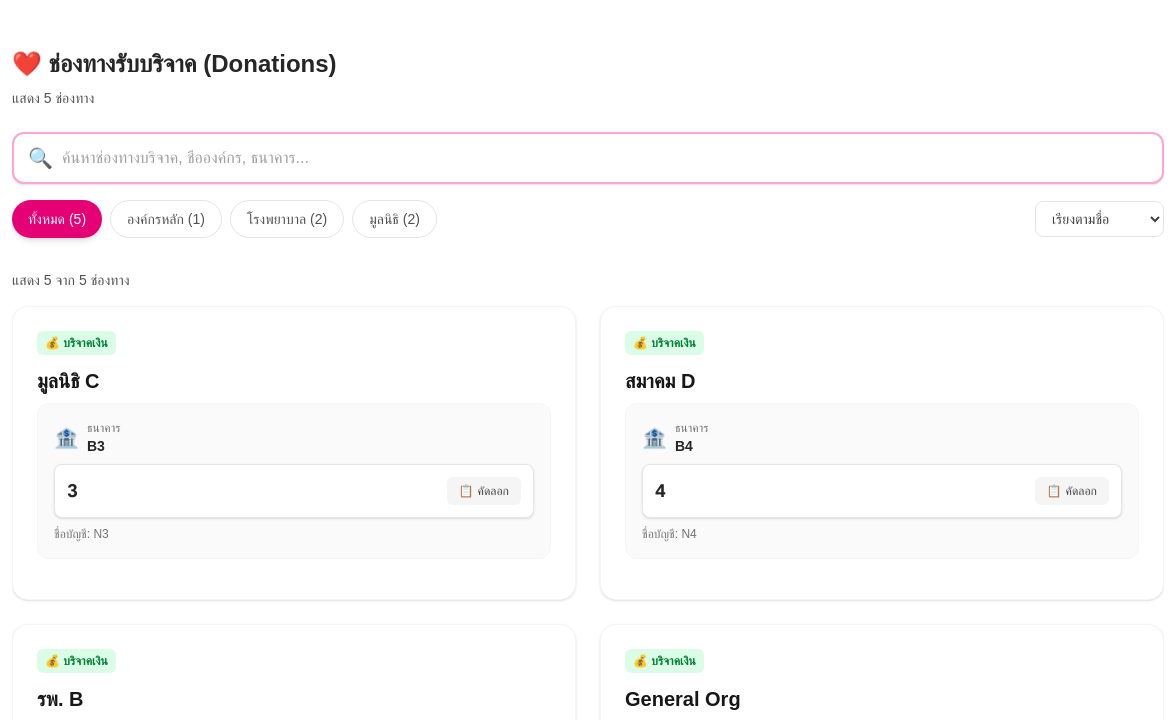
Test: DonationsSection › categorizes donations correctly
This screenshot has width=1176, height=720.
# Test "โรงพยาบาล" filter (should include "โรงพยาบาล" and "รพ.")
Click the button "โรงพยาบาล (2)" at (287,219), box [230,200,344,238]
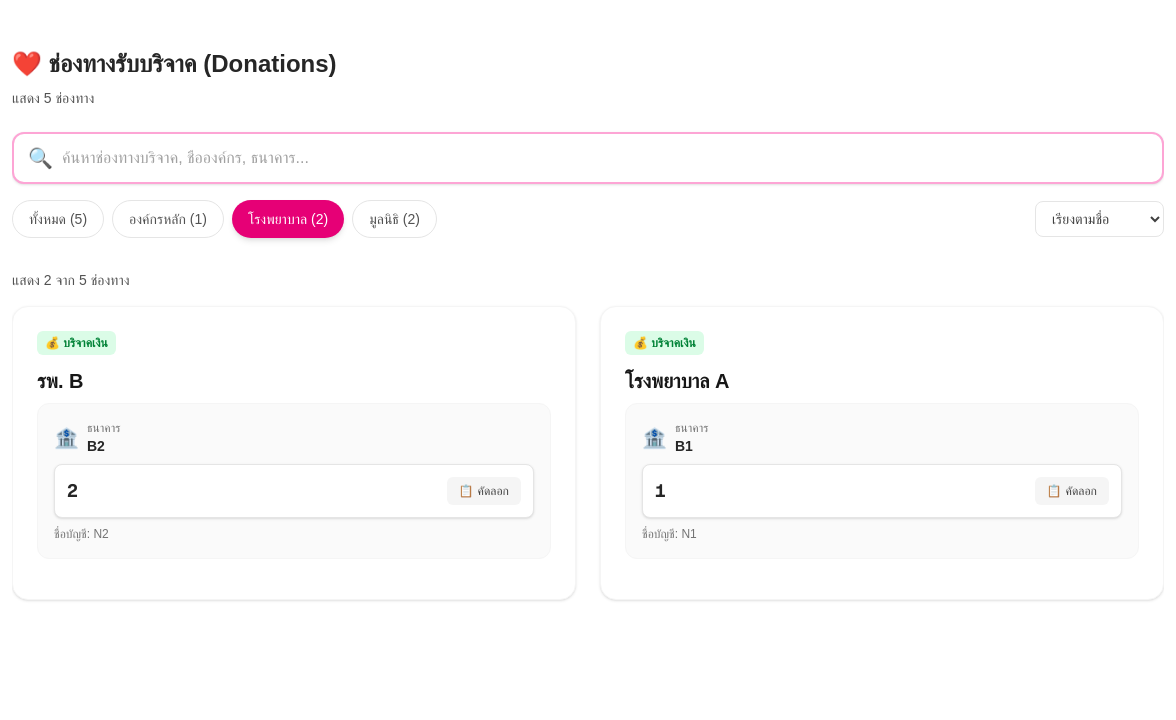
Expected: the heading "โรงพยาบาล A" is shown, [625,370,730,392]
Now the heading "มูลนิธิ C" is gone
# Test "มูลนิธิ" filter (should include "มูลนิธิ" and "สมาคม")
Click the button "มูลนิธิ (2)" at (395,219), box [352,200,437,238]
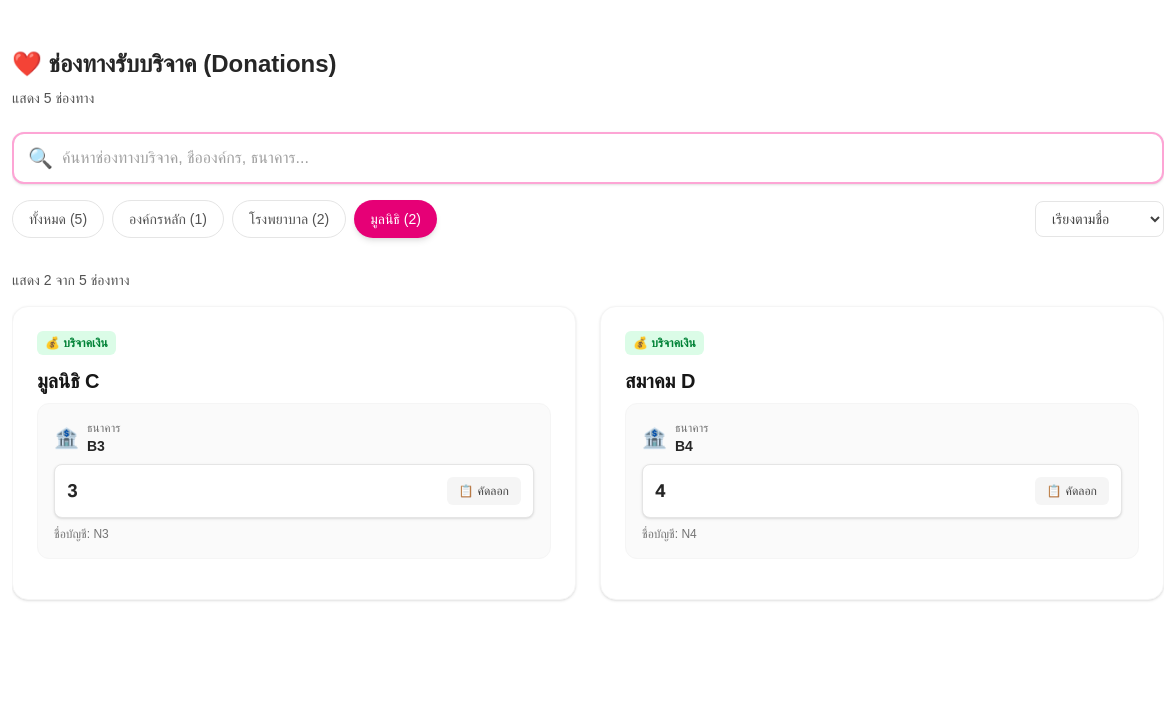
Expected: the heading "General Org" is not shown
Now the heading "มูลนิธิ C" is shown, box [37,370,100,392]
Now the heading "สมาคม D" is shown, box [625,370,695,392]
# Test "องค์กรหลัก" filter (Default category)
Click the button "องค์กรหลัก (1)" at (168,219), box [112,200,224,238]
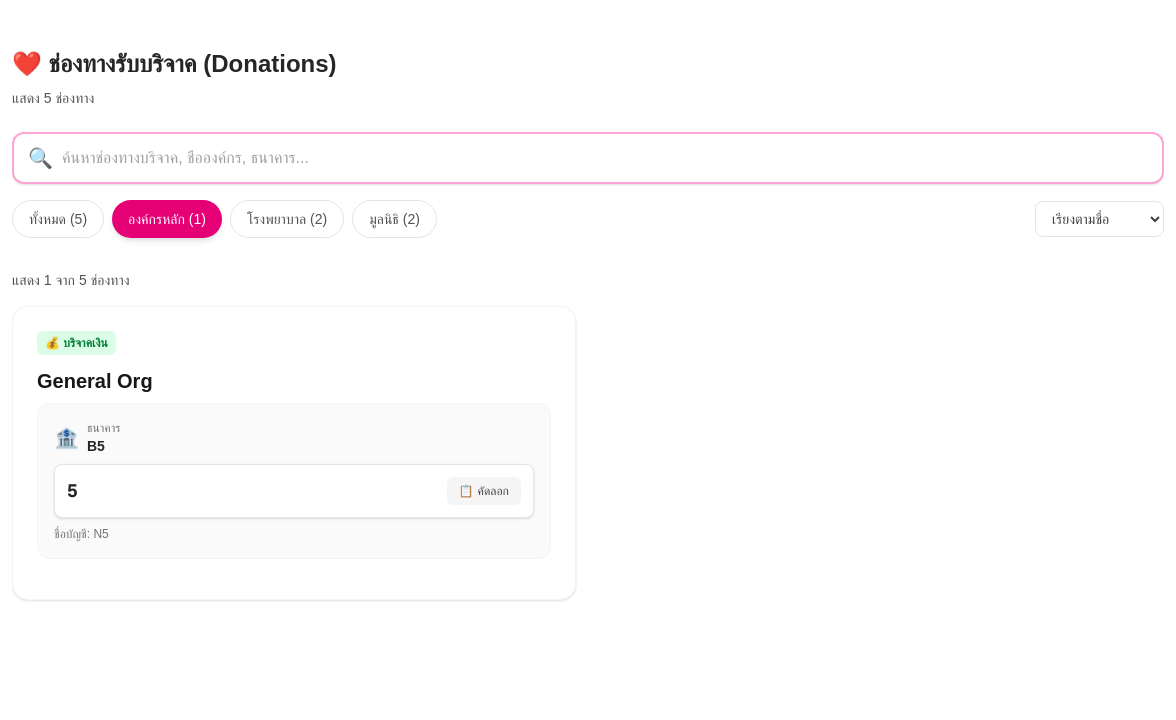
Now the heading "General Org" is shown, box [37,370,153,392]
Now the heading "มูลนิธิ C" is gone
